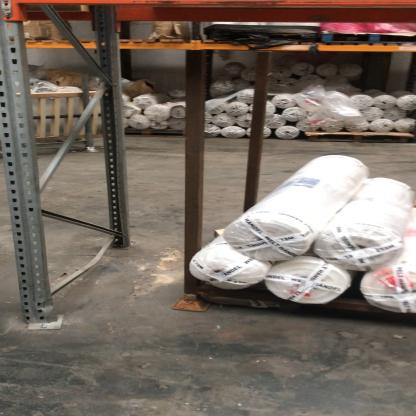vertical_damage: (14, 287, 73, 336)
